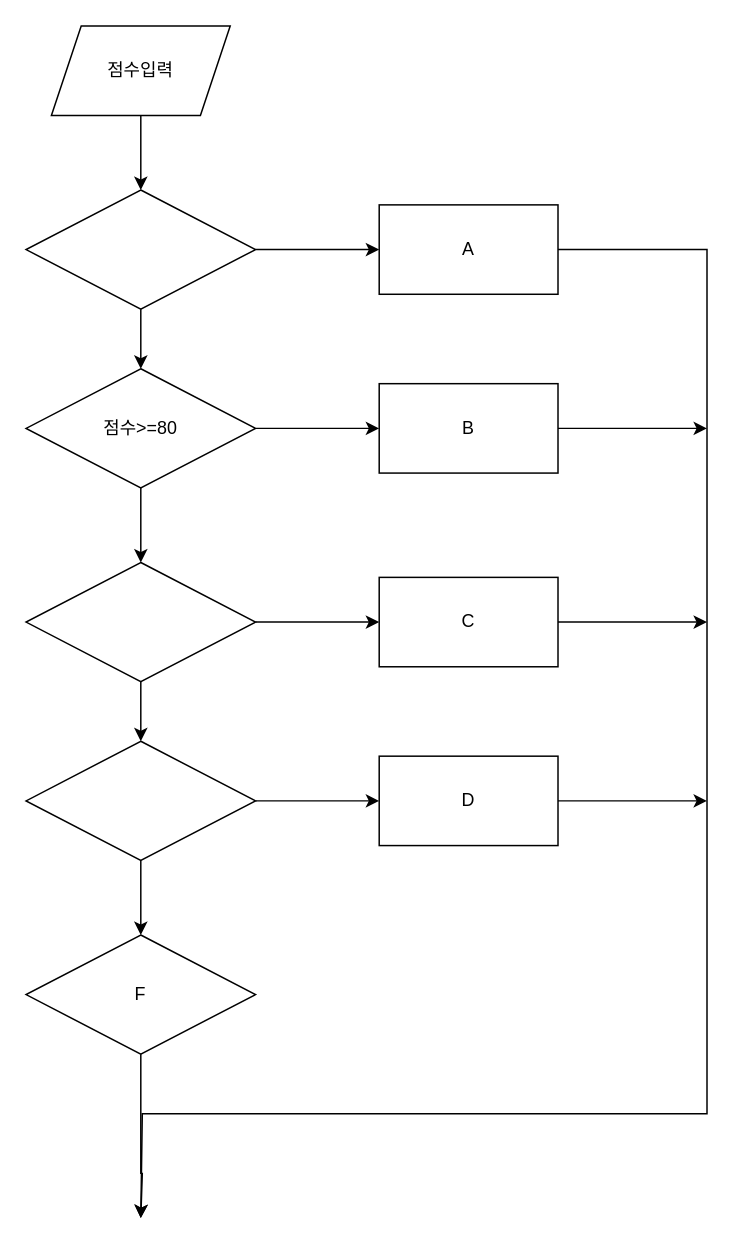
This 745x1256 diagram has some shape labels left out. Each missing label, with the centre of its shape:
"점수>=60" goes at point 140,800.
"점수>=70" goes at point 140,621.
"점수>=90" goes at point 140,248.
